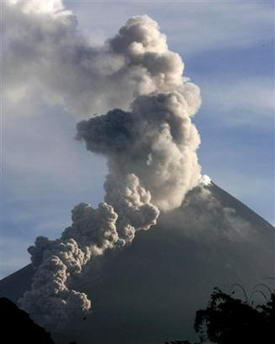smoke: (54, 20, 188, 294)
